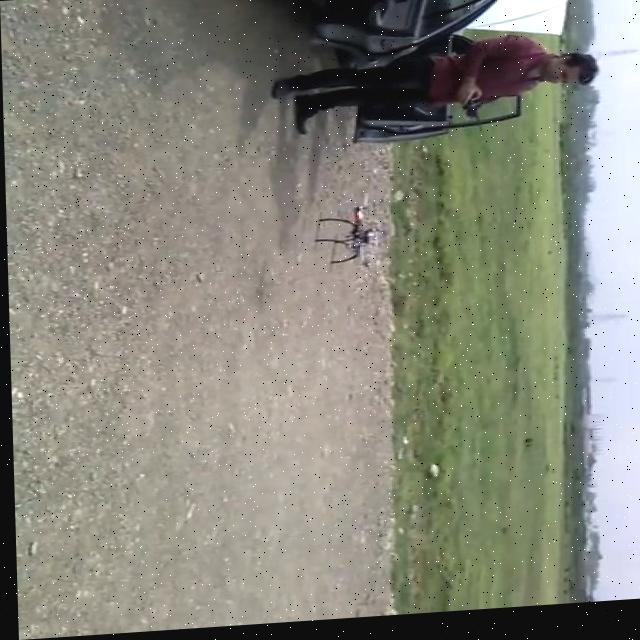drone: (311, 206, 385, 278)
